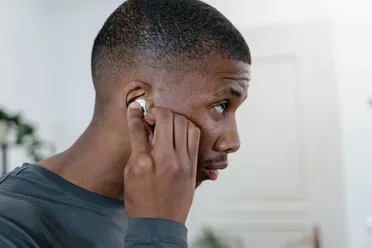earphone: (121, 81, 157, 125)
